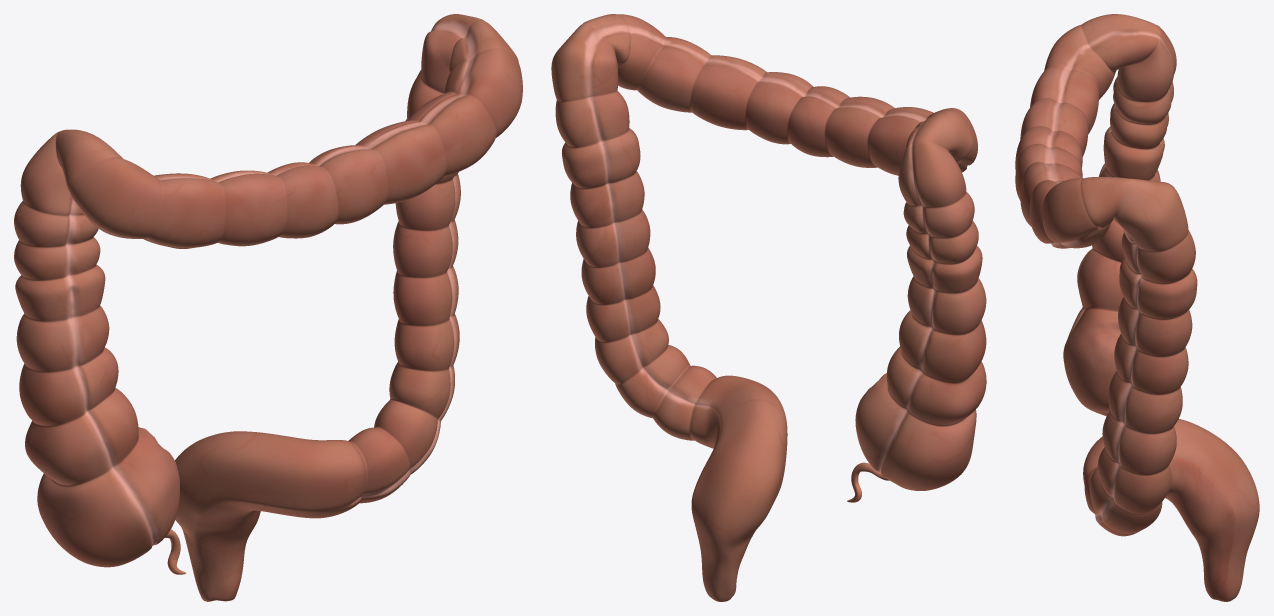
Rendered from colon.glb.
The picture shows the model from 3 angles, left to right: view 1: azimuth 30°, elevation 25°; view 2: azimuth 150°, elevation 25°; view 3: azimuth 270°, elevation 25°; orthographic projection. The views are drawn at different scales.
Parts seen in each view (by area): view 1: colon; view 2: colon; view 3: colon.
Boxes of the visible parts, x1,y1,x2,y2 form: colon: (14,14,522,601); colon: (551,14,986,601); colon: (1015,14,1259,601).
Size of the model in its own units: 0.3958 by 0.45 by 0.1953.
1 material, 1 textured.
